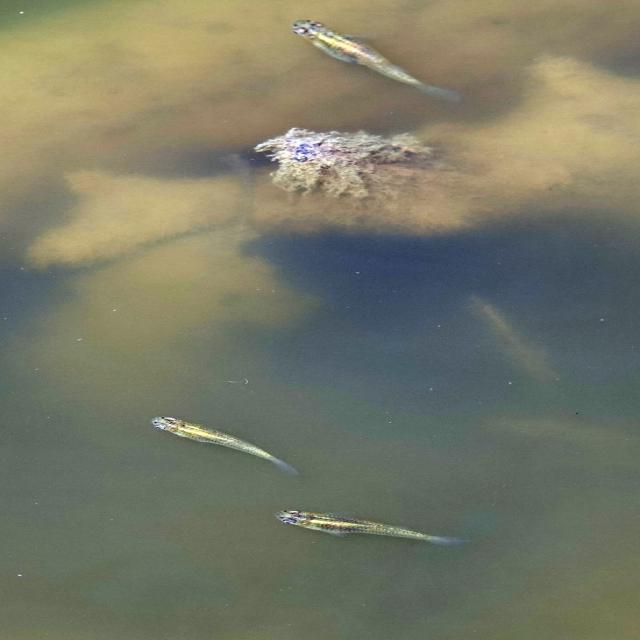Sivrisinek Baligi: (285, 11, 466, 110), (150, 410, 304, 482), (274, 505, 474, 558)
